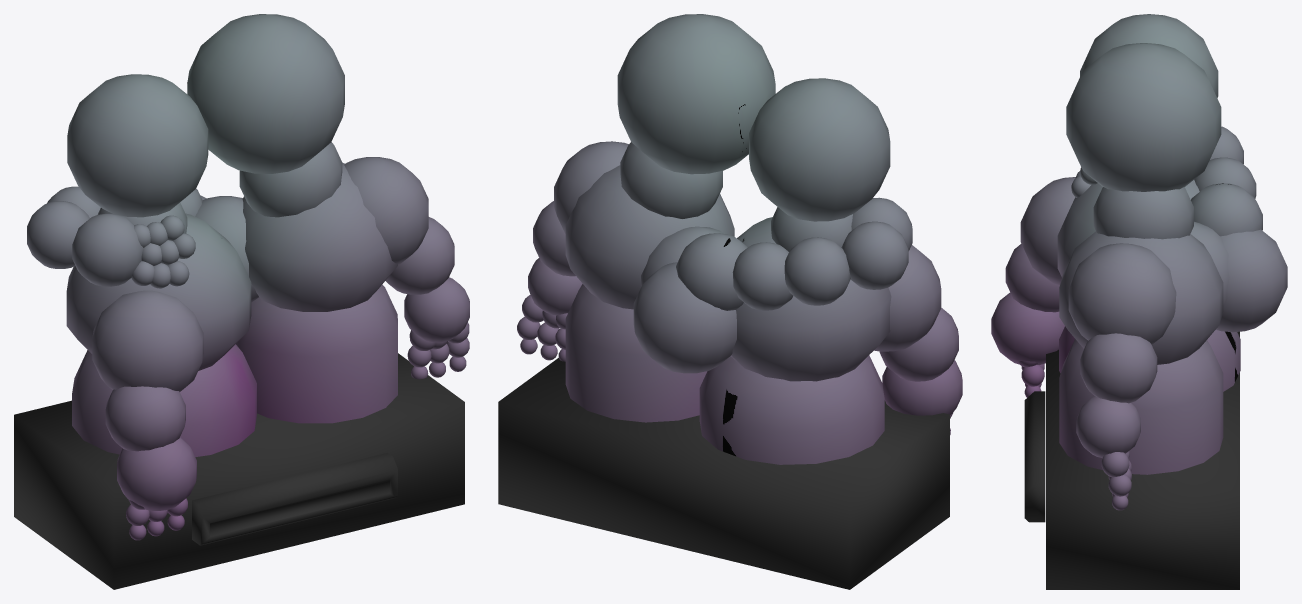
Rendered from statue.fbx.
3 views of the same model, side by side, from view 1: azimuth 30°, elevation 25°; view 2: azimuth 150°, elevation 25°; view 3: azimuth 270°, elevation 25° (orthographic). The views are drawn at different scales.
Visible parts, largest first — view 1: Cube; view 2: Cube; view 3: Cube.
Part boxes in pixels (x1,y1,x2,y2): Cube: (14,14,469,589); Cube: (498,14,962,589); Cube: (991,14,1287,589).
Size of the model in its own units: 669 by 752 by 430.
